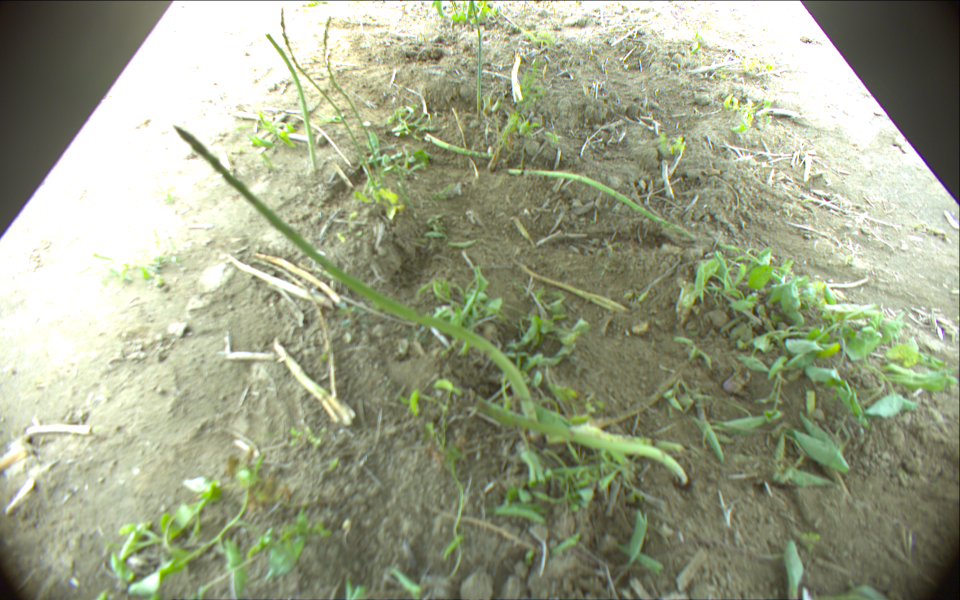aspa: (174, 123, 538, 423), (452, 389, 690, 488), (279, 6, 374, 182), (508, 166, 700, 241), (265, 32, 320, 174), (326, 50, 377, 153), (423, 132, 499, 159), (470, 1, 483, 115), (322, 16, 334, 61)
